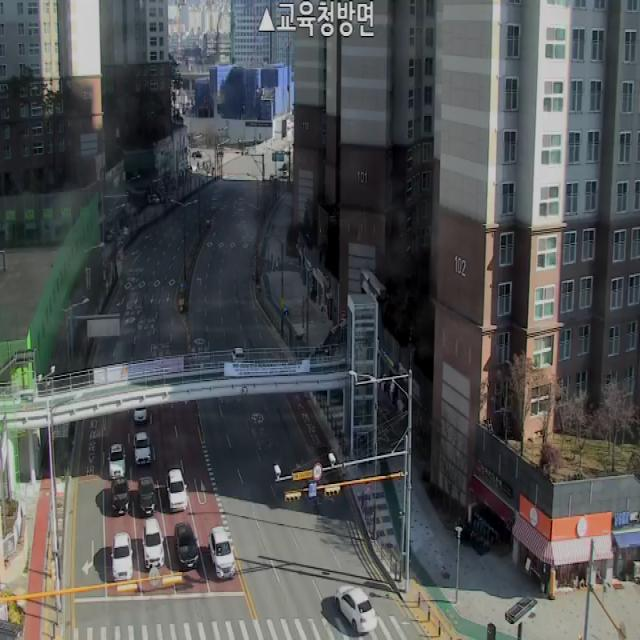Car: (335, 586, 377, 632), (209, 527, 236, 579), (174, 523, 200, 571), (142, 518, 165, 569), (110, 533, 134, 581), (167, 469, 187, 512), (111, 477, 130, 516), (139, 476, 156, 517), (108, 444, 126, 478), (134, 432, 151, 465), (134, 407, 148, 425), (231, 348, 245, 362), (192, 151, 202, 158)
